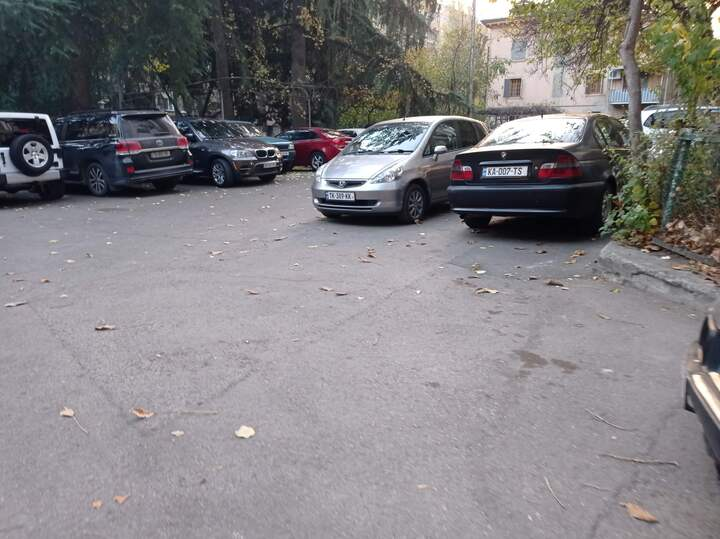plate: (324, 191, 356, 201), (149, 150, 170, 159), (263, 161, 276, 168)
